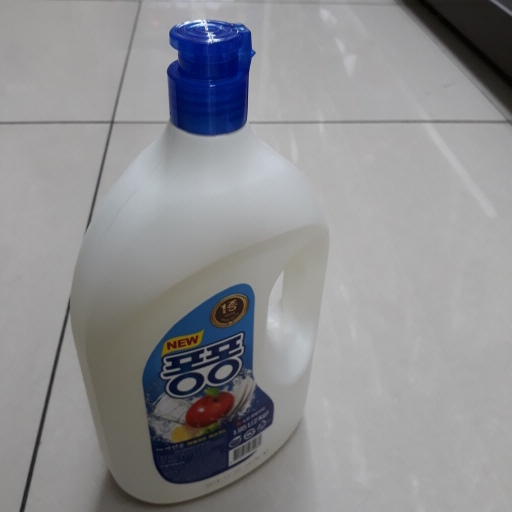Plastic_1: (70, 19, 329, 505)
